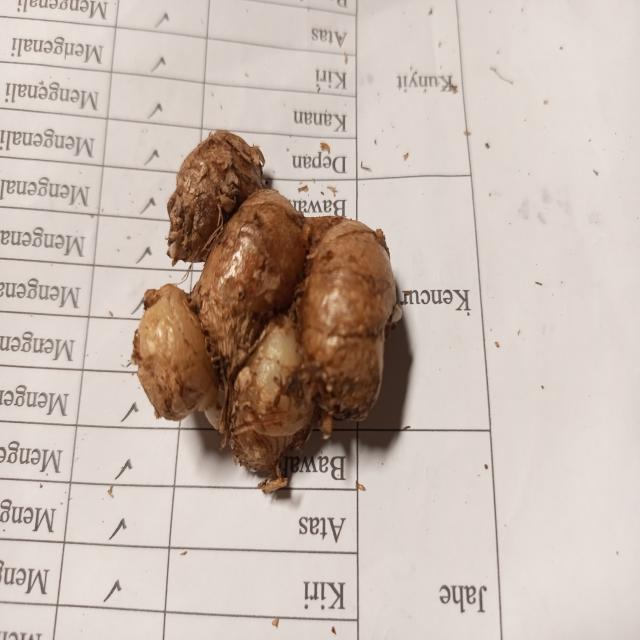ginger: (142, 140, 386, 448)
